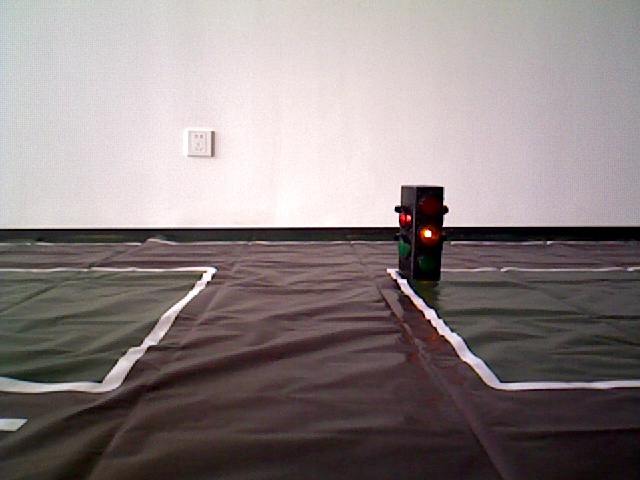yellow: (398, 183, 442, 284)
